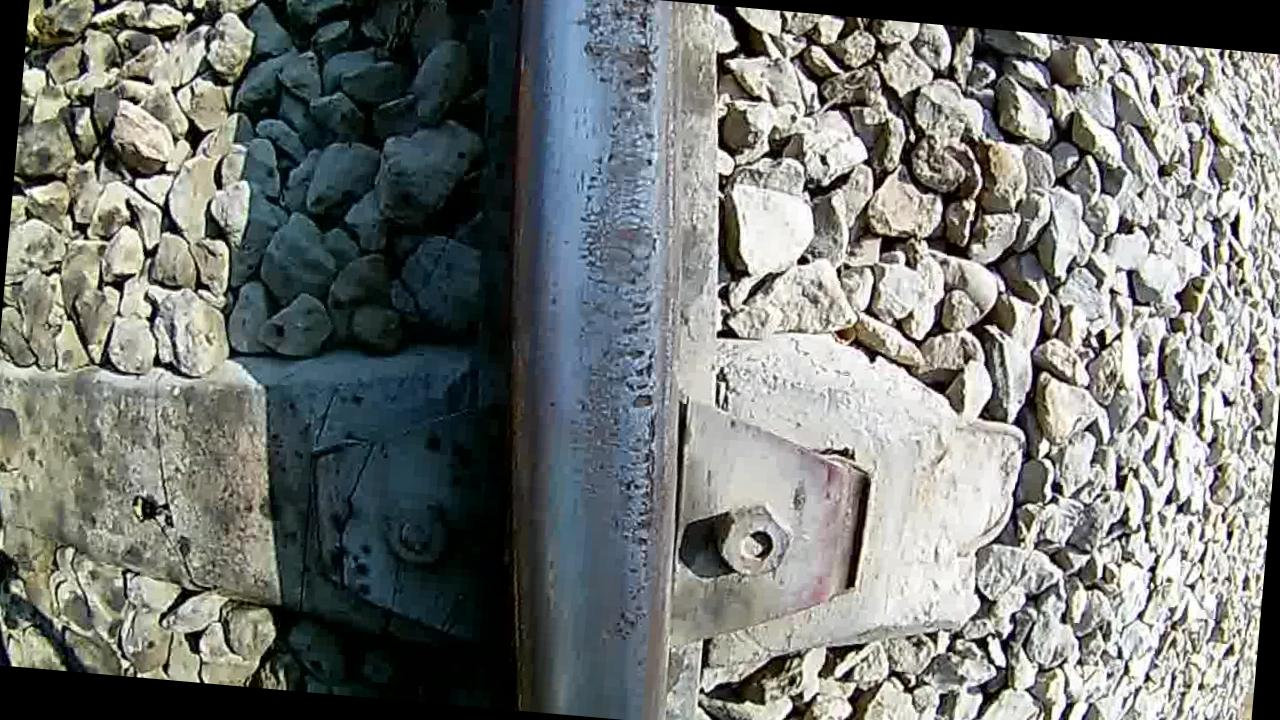crack: (468, 0, 716, 720)
